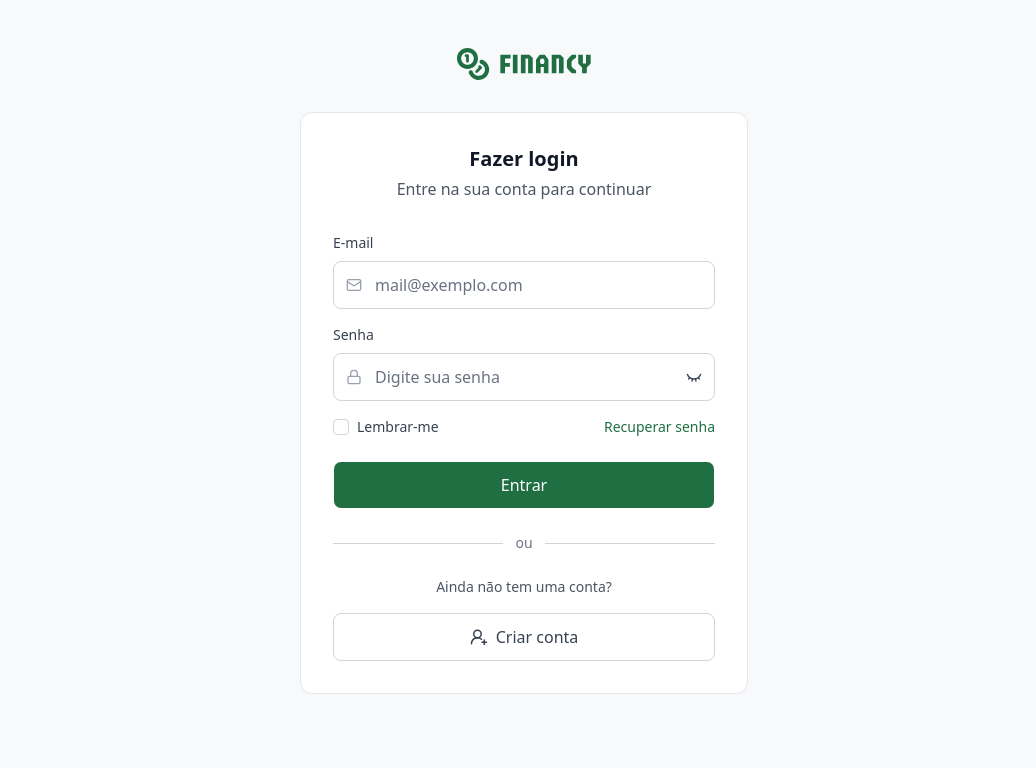
Scenario: login › abre a sessao e guarda o token apenas na aba
The image size is (1036, 768).
In the field labelled "E-mail": point(524, 285) [333,261,715,309], type "ana@exemplo.com"
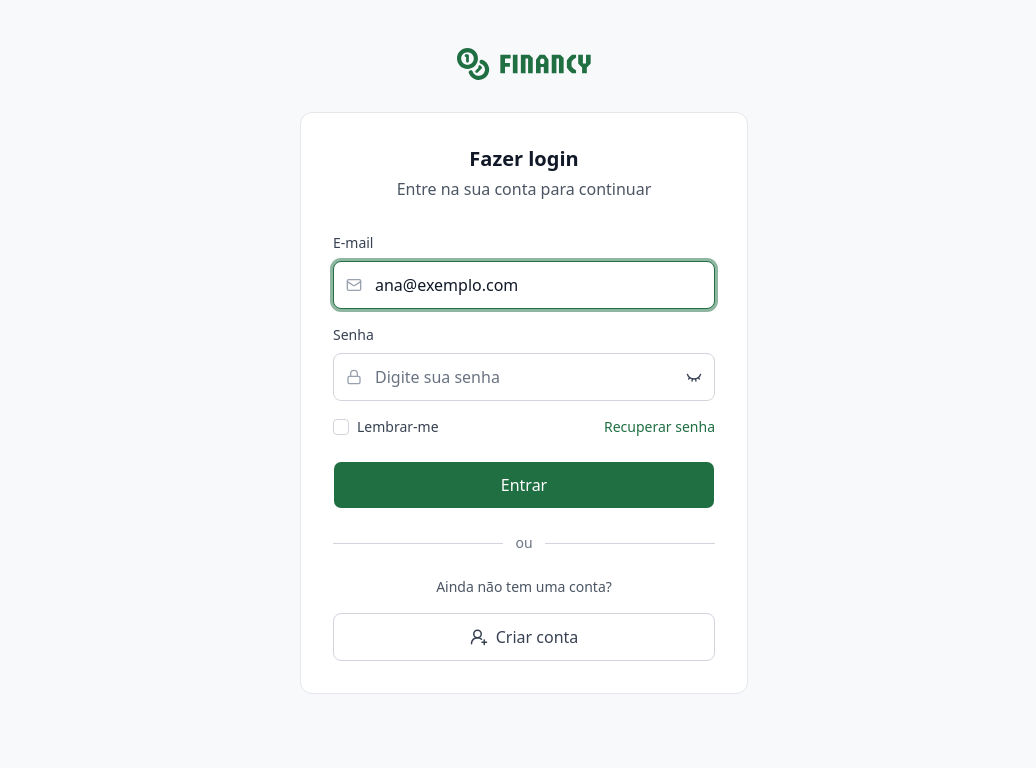
In the password field labelled "Senha": point(524, 377) [333,353,715,401], type "senha-forte-123"
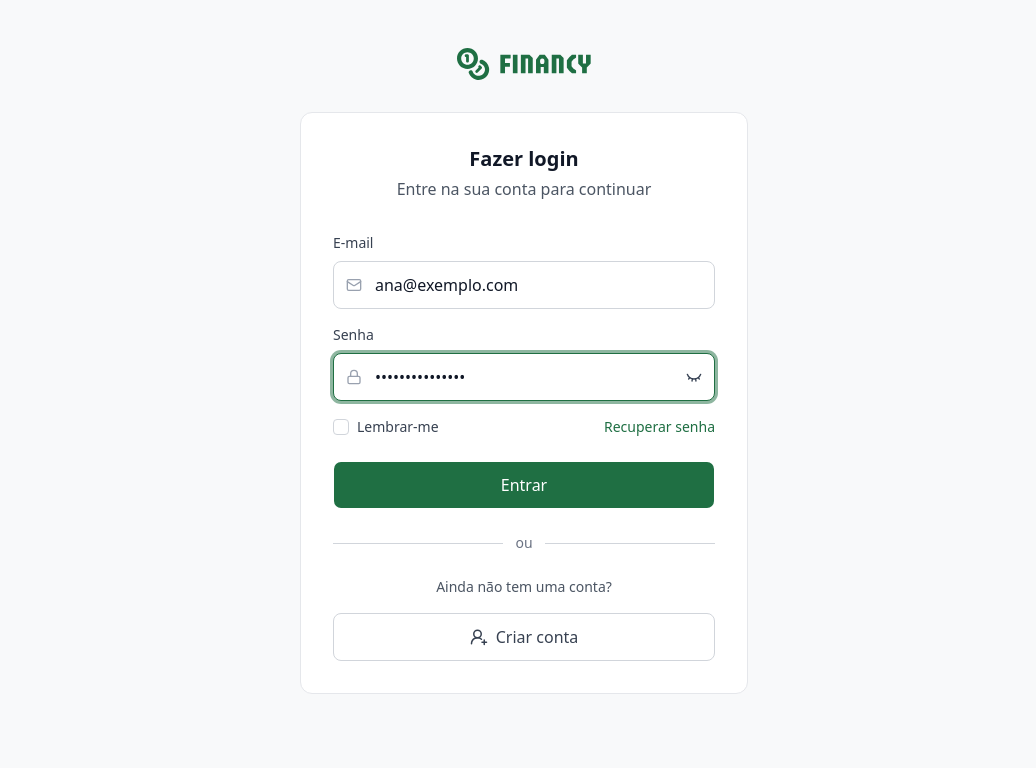
Click the button "Entrar": point(524, 485) [333,461,715,509]
(page scrolled)
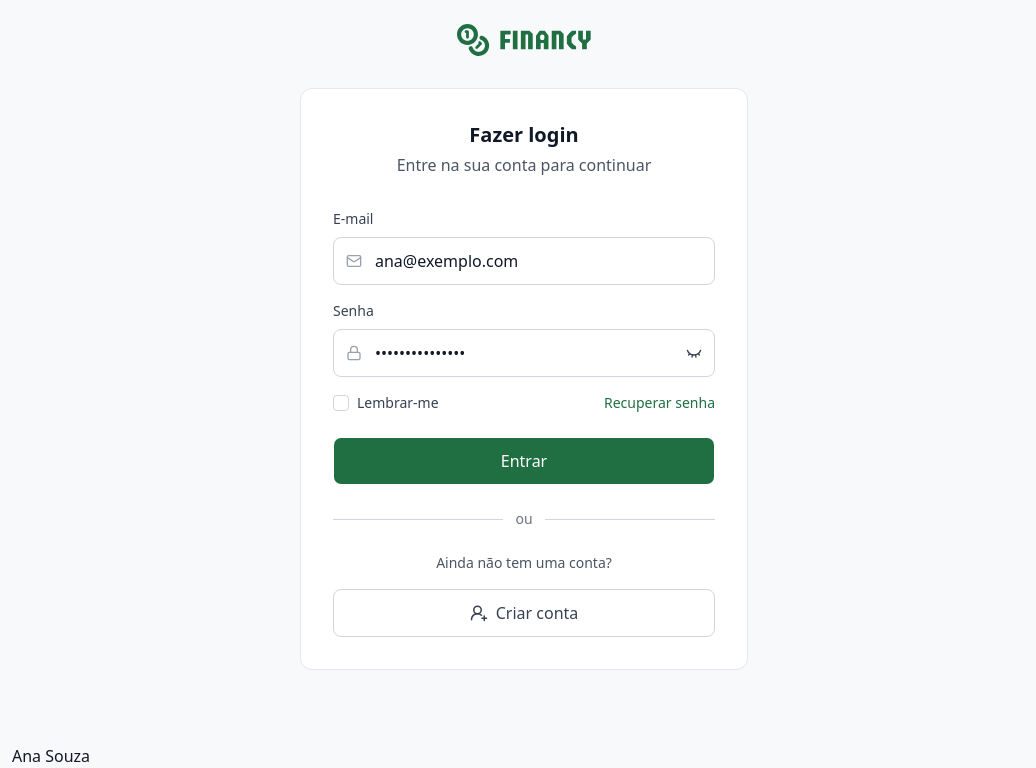
Expected: the text "Ana Souza" is shown, [12,745,90,767]
